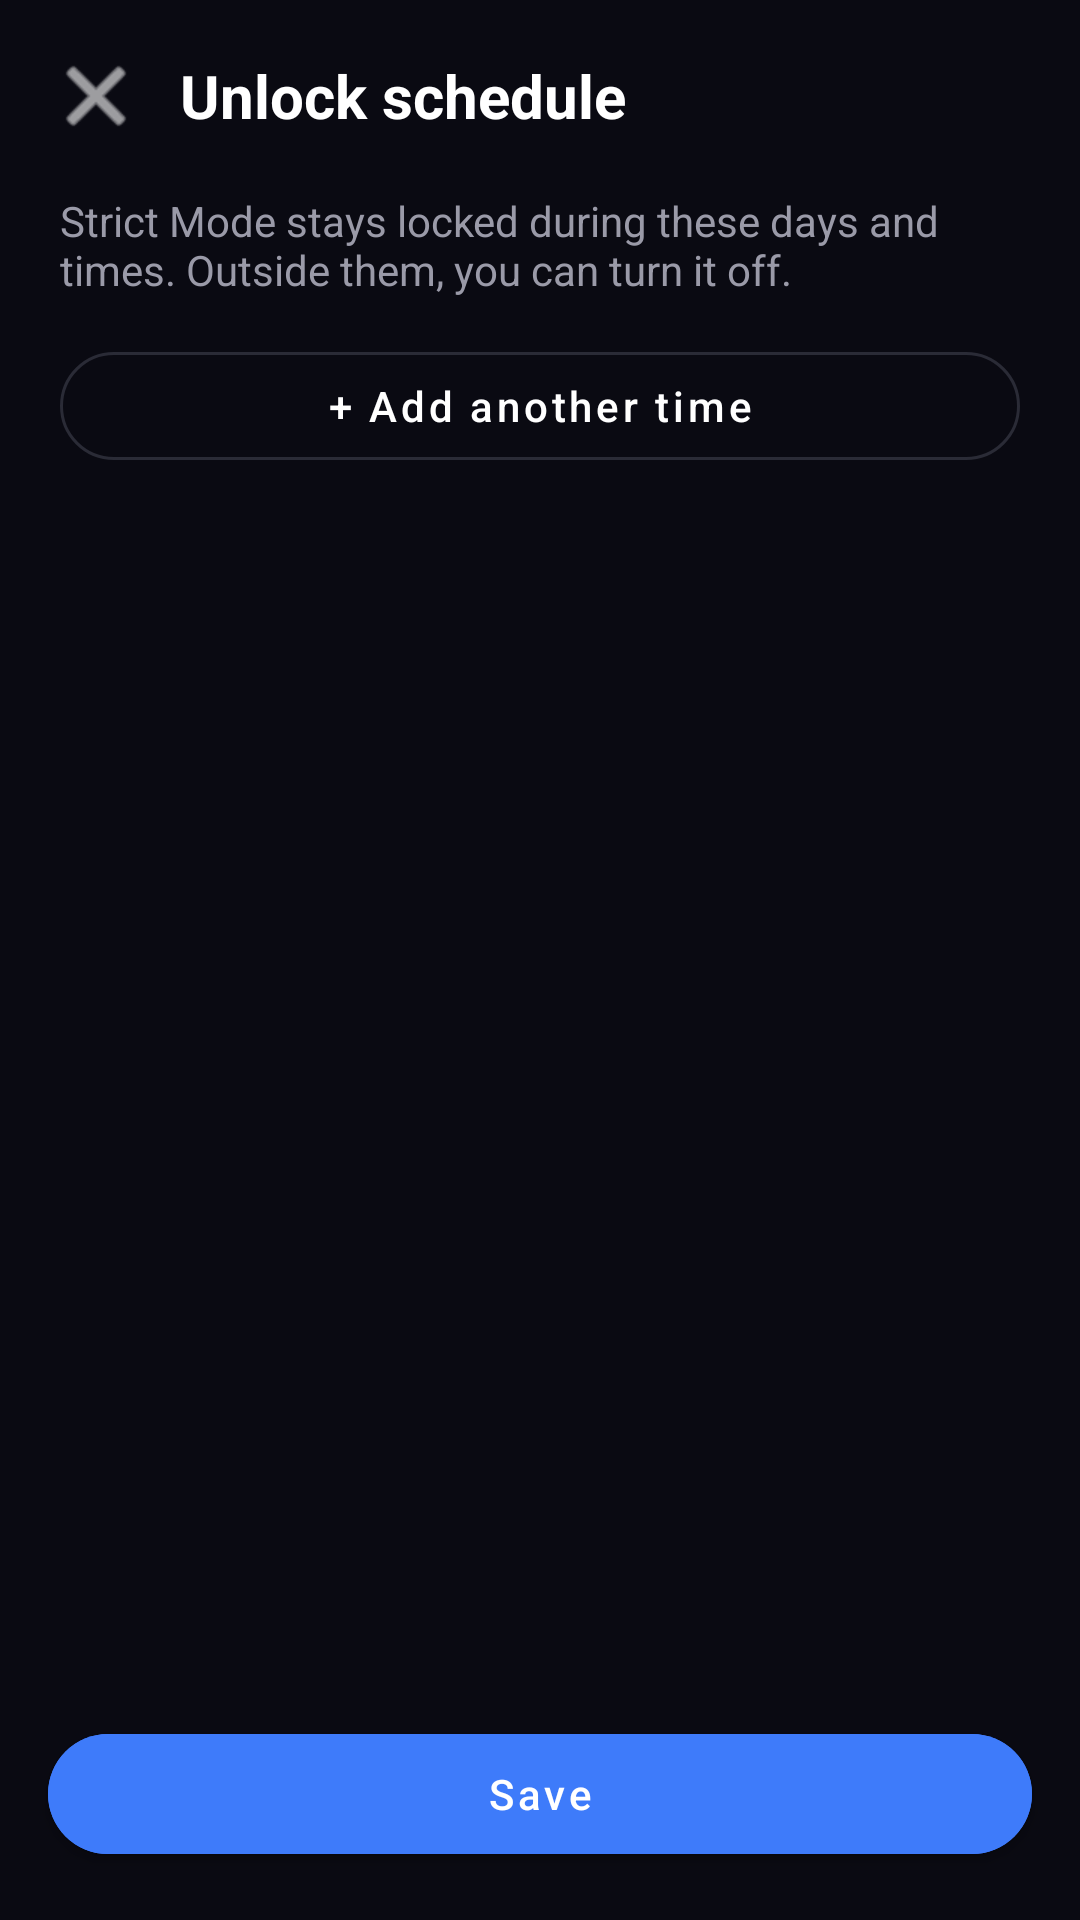

Screen size 1080×1920. Icon name, then its box in pixels as {"x1": x1, "y1": y1, "x2": x2, "y2": y2}:
Close: {"x1": 66, "y1": 66, "x2": 126, "y2": 126}
